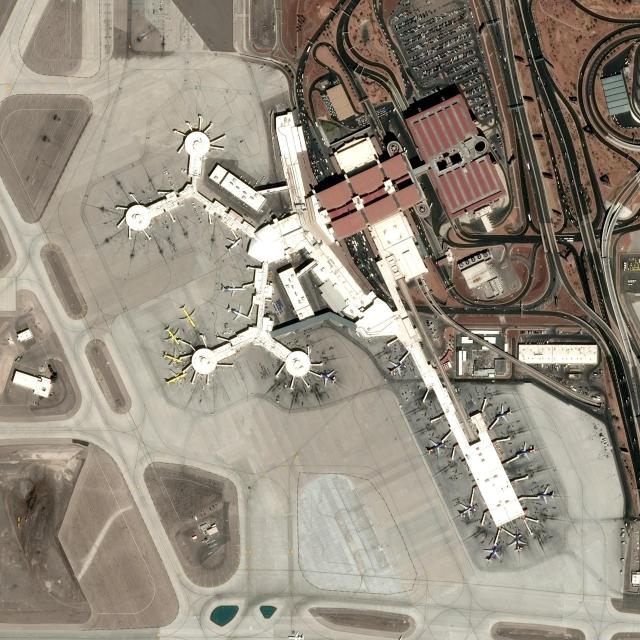aircraft: (178, 304, 196, 328), (220, 280, 246, 296), (164, 368, 187, 386), (535, 485, 555, 504), (516, 441, 536, 460), (227, 304, 250, 320), (482, 543, 500, 563), (162, 348, 182, 366), (508, 534, 527, 552), (426, 438, 444, 457), (163, 325, 180, 345), (224, 235, 242, 253), (495, 405, 513, 422), (319, 369, 337, 386), (458, 502, 474, 519), (387, 359, 403, 376)
